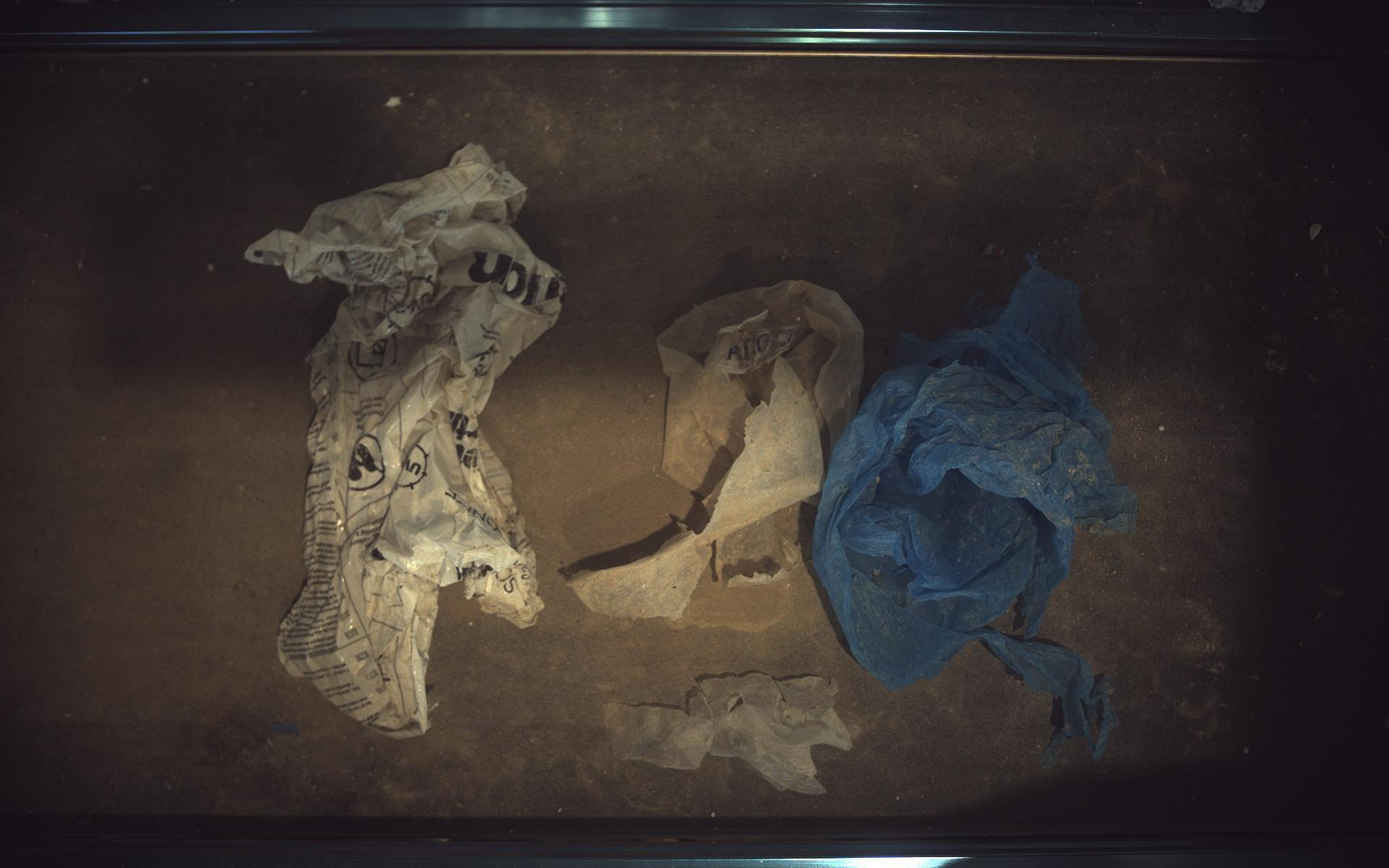general_w: (245, 143, 565, 739), (815, 256, 1140, 760), (571, 280, 865, 618), (605, 673, 853, 796)
